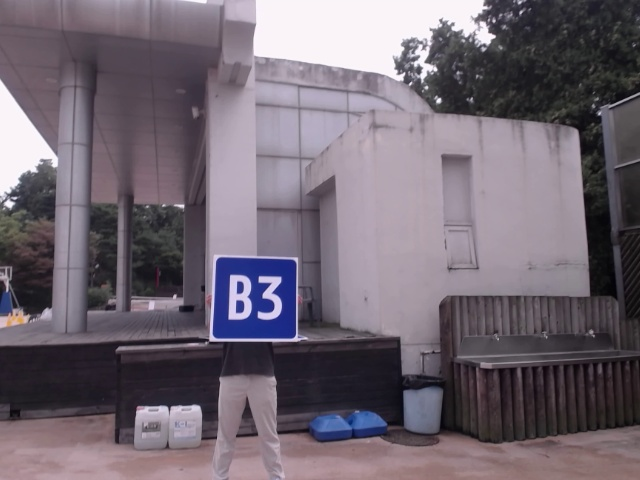delivery_b3: (212, 256, 296, 339)
